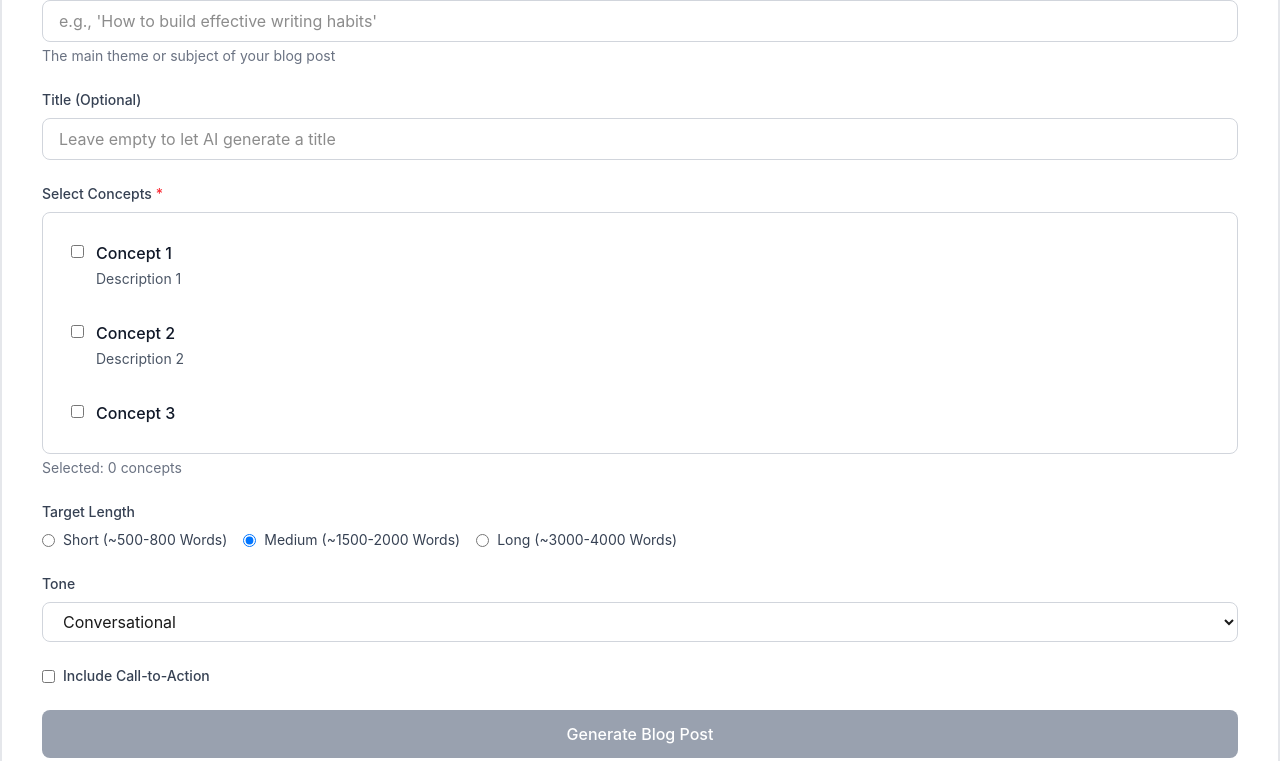
Scenario: BlogPostsTab › should show CTA input when includeCTA checkbox is checked
(page scrolled)
Click the checkbox labelled "Include Call-to-Action". click: point(48, 676)
box: x1=42 y1=670 x2=55 y2=682
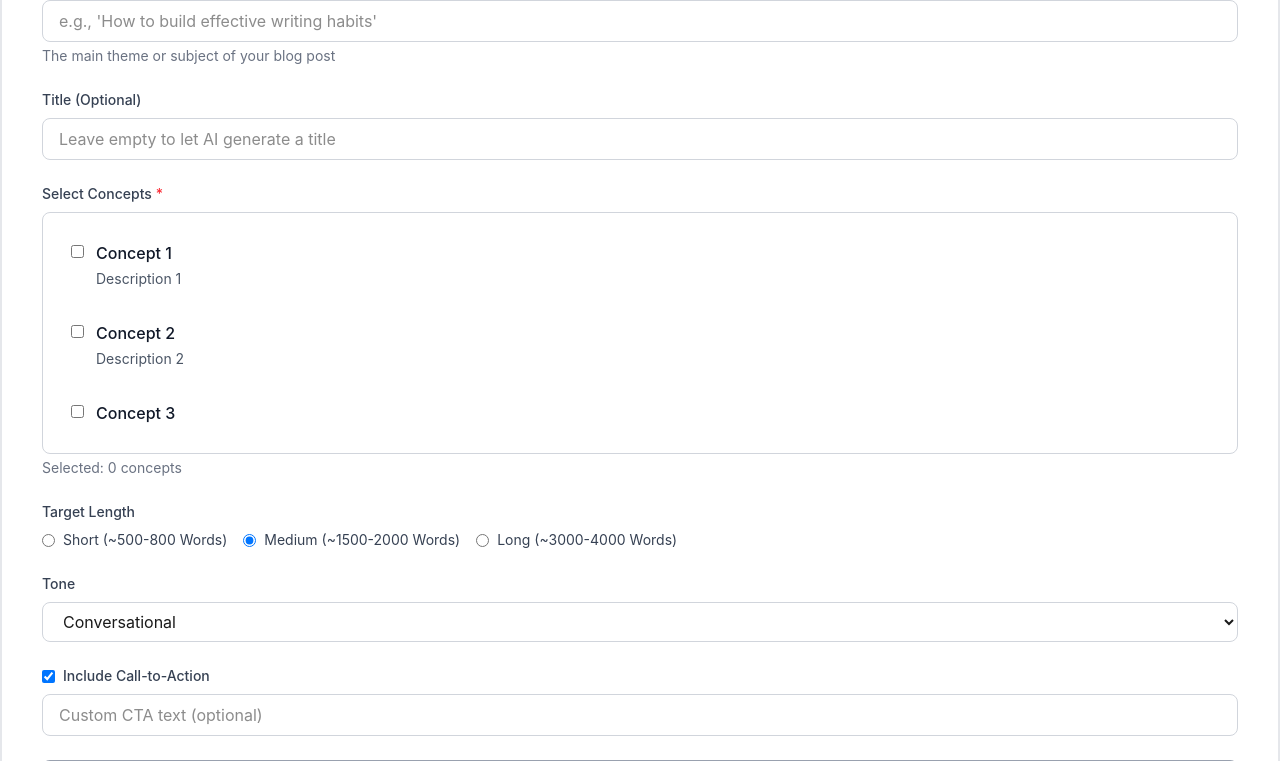
Result: the field with placeholder "Custom CTA text (optional)" is shown at x1=42 y1=694 x2=1238 y2=736
